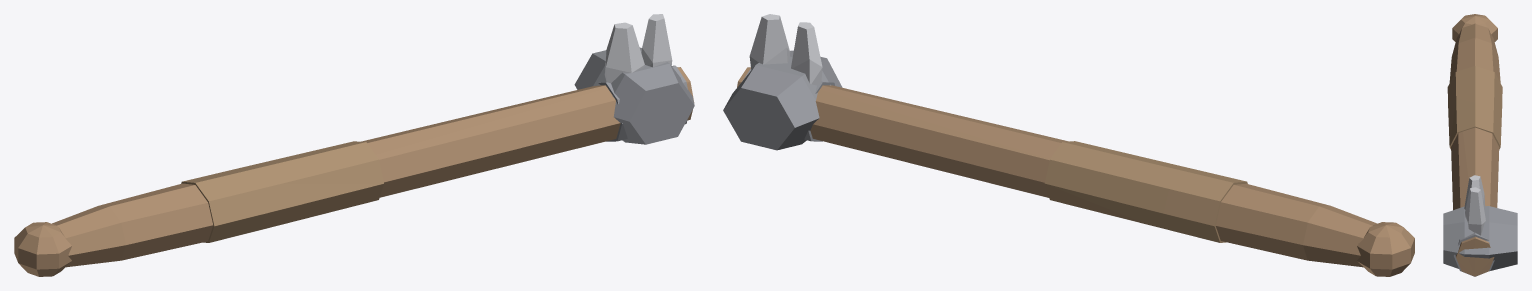
The model's file is 16-Crafting_martillo.glb.
3 renders of one model, left to right at view 1: azimuth 30°, elevation 25°; view 2: azimuth 150°, elevation 25°; view 3: azimuth 270°, elevation 25°, orthographic. The views are drawn at different scales.
Parts seen in each view (by area): view 1: SM_Martillo_M_Martillo_Madera, SM_Martillo_M_Martillo_Cuero, SM_Martillo_M_Martillo_Hierro, SM_Martillo_M_Martillo_Acero; view 2: SM_Martillo_M_Martillo_Madera, SM_Martillo_M_Martillo_Cuero, SM_Martillo_M_Martillo_Hierro, SM_Martillo_M_Martillo_Acero; view 3: SM_Martillo_M_Martillo_Madera, SM_Martillo_M_Martillo_Cuero, SM_Martillo_M_Martillo_Hierro, SM_Martillo_M_Martillo_Acero.
Part boxes in pixels (left/top/right/bottom): SM_Martillo_M_Martillo_Madera: left=14, top=67, right=694, bottom=276; SM_Martillo_M_Martillo_Cuero: left=181, top=141, right=383, bottom=242; SM_Martillo_M_Martillo_Hierro: left=574, top=47, right=694, bottom=144; SM_Martillo_M_Martillo_Acero: left=604, top=14, right=672, bottom=83; SM_Martillo_M_Martillo_Madera: left=737, top=67, right=1414, bottom=276; SM_Martillo_M_Martillo_Cuero: left=1044, top=141, right=1247, bottom=242; SM_Martillo_M_Martillo_Hierro: left=723, top=50, right=842, bottom=150; SM_Martillo_M_Martillo_Acero: left=749, top=14, right=822, bottom=85; SM_Martillo_M_Martillo_Madera: left=1449, top=14, right=1500, bottom=276; SM_Martillo_M_Martillo_Cuero: left=1447, top=66, right=1502, bottom=149; SM_Martillo_M_Martillo_Hierro: left=1443, top=206, right=1517, bottom=276; SM_Martillo_M_Martillo_Acero: left=1464, top=175, right=1485, bottom=235.
Size of the model in its own units: 0.7811 by 0.125 by 0.105.
